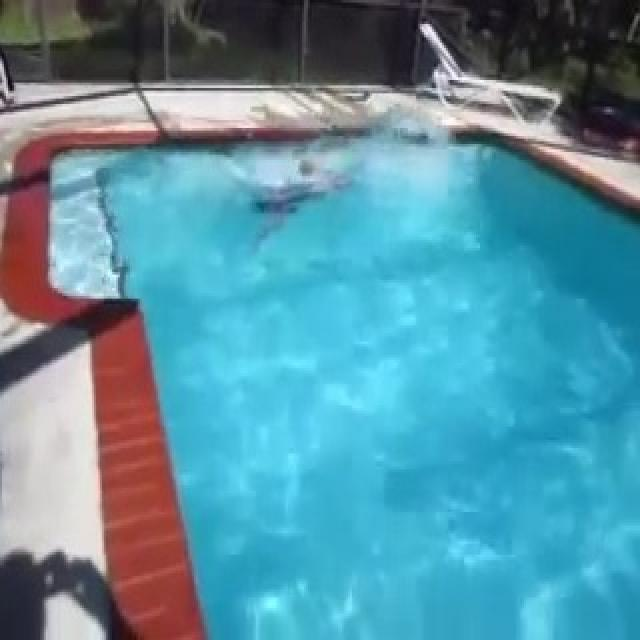drowning: (255, 140, 341, 245)
